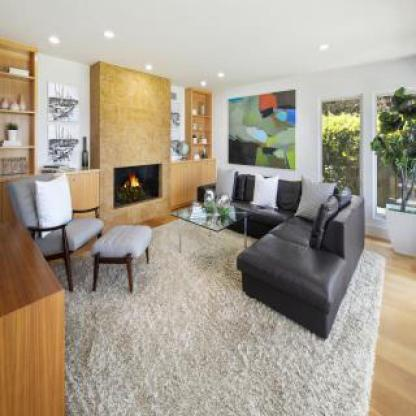fire: (125, 170, 144, 194)
